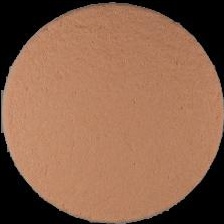63739-266: (0, 0, 224, 224)
